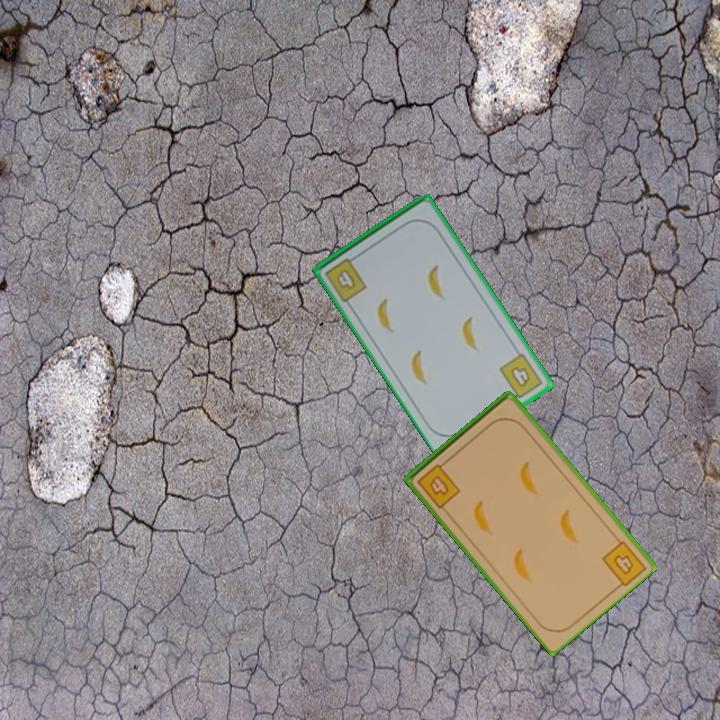4b: (496, 350, 546, 404), (414, 456, 463, 511), (321, 251, 370, 305), (610, 551, 637, 578)
